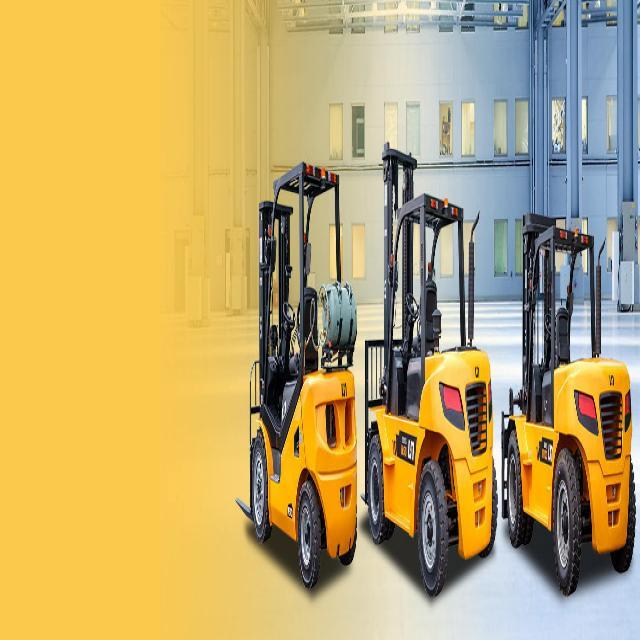forklift: (368, 134, 496, 597), (513, 181, 640, 611), (247, 140, 360, 606)
